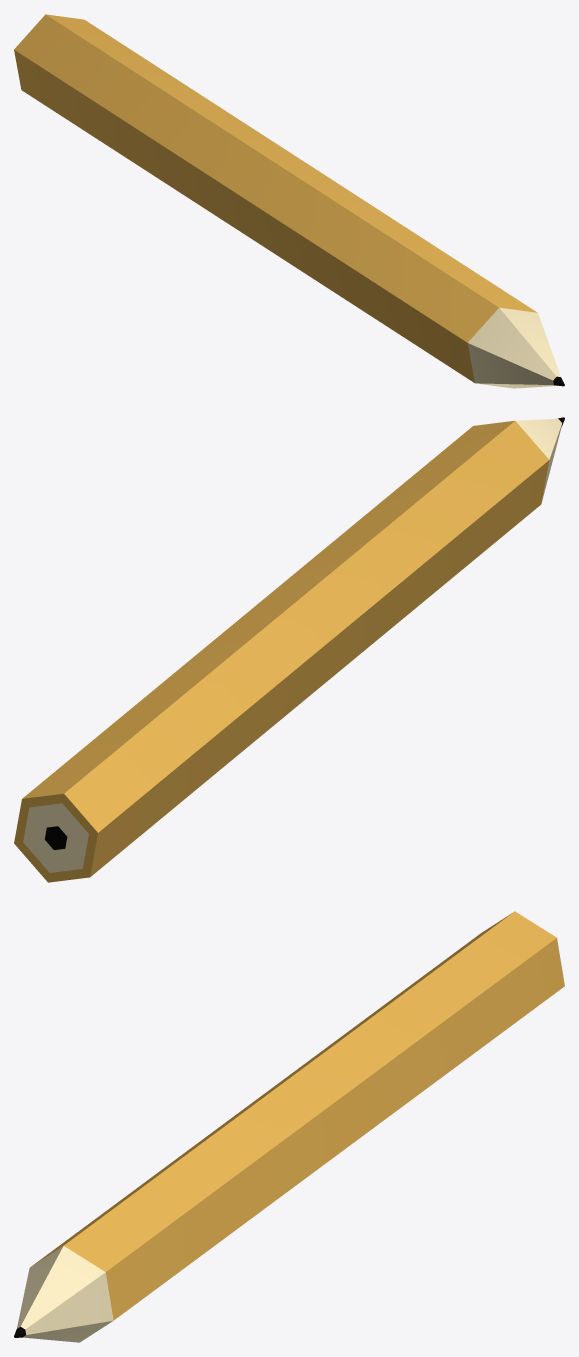
File: Lapiz.fbx
3 views of the same model, one above another, from view 1: azimuth 30°, elevation 25°; view 2: azimuth 150°, elevation 25°; view 3: azimuth 330°, elevation 25° (orthographic). The views are drawn at different scales.
Visible parts, largest first — view 1: Pencil; view 2: Pencil; view 3: Pencil.
Boxes of the visible parts, left/top/right/bottom form: Pencil: left=14, top=14, right=564, bottom=388; Pencil: left=14, top=417, right=564, bottom=882; Pencil: left=14, top=911, right=564, bottom=1342.
Size of the model in its own units: 1455 by 1434 by 12397.
